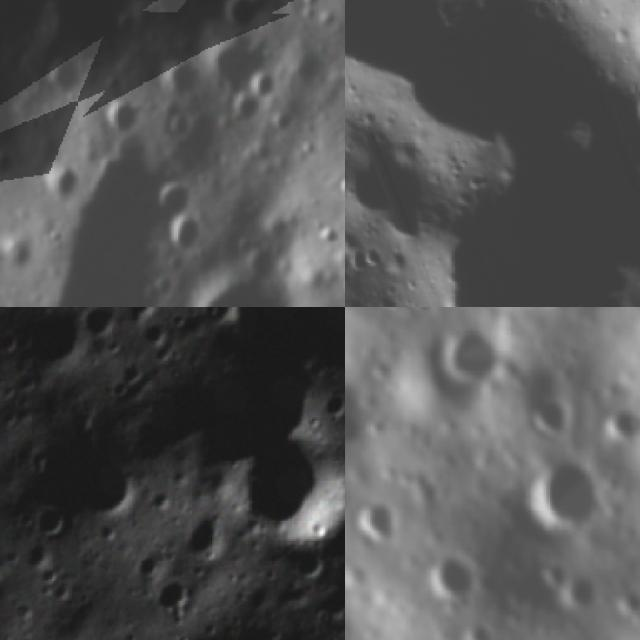crater: (224, 417, 345, 578), (345, 105, 461, 254), (61, 448, 152, 538), (508, 456, 602, 526), (7, 307, 93, 383), (200, 32, 272, 102), (181, 266, 295, 307), (174, 507, 239, 568), (311, 528, 345, 640), (443, 324, 497, 392), (551, 562, 609, 616), (422, 553, 484, 602), (353, 490, 397, 550), (156, 573, 208, 620), (150, 177, 198, 221), (166, 210, 206, 262), (514, 399, 572, 434), (26, 501, 71, 545), (129, 543, 171, 589), (41, 160, 82, 206), (617, 72, 640, 153), (41, 53, 81, 98), (220, 0, 269, 36), (159, 60, 198, 104), (226, 613, 289, 640), (102, 97, 142, 137), (0, 234, 39, 273), (163, 110, 199, 142), (232, 93, 262, 128), (0, 547, 11, 604)
